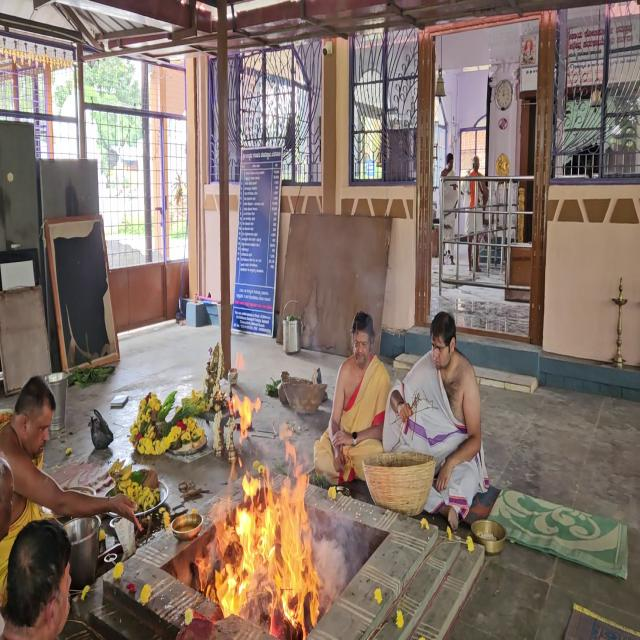fire: (188, 370, 337, 637)
